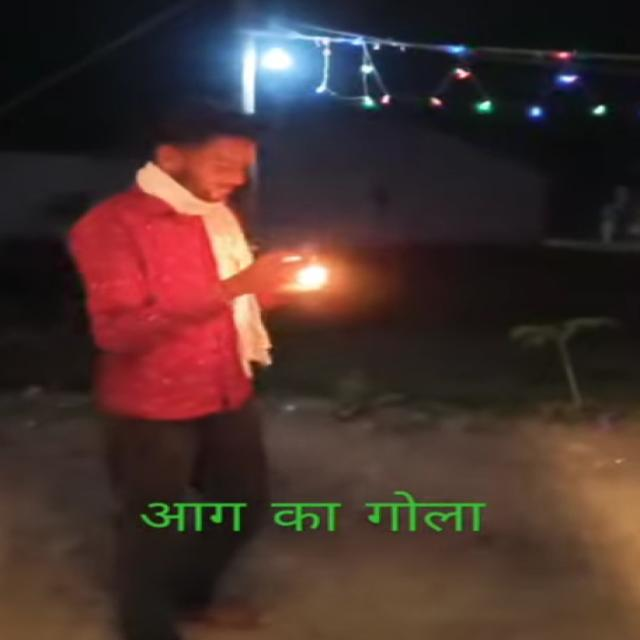fire: (278, 267, 330, 293)
